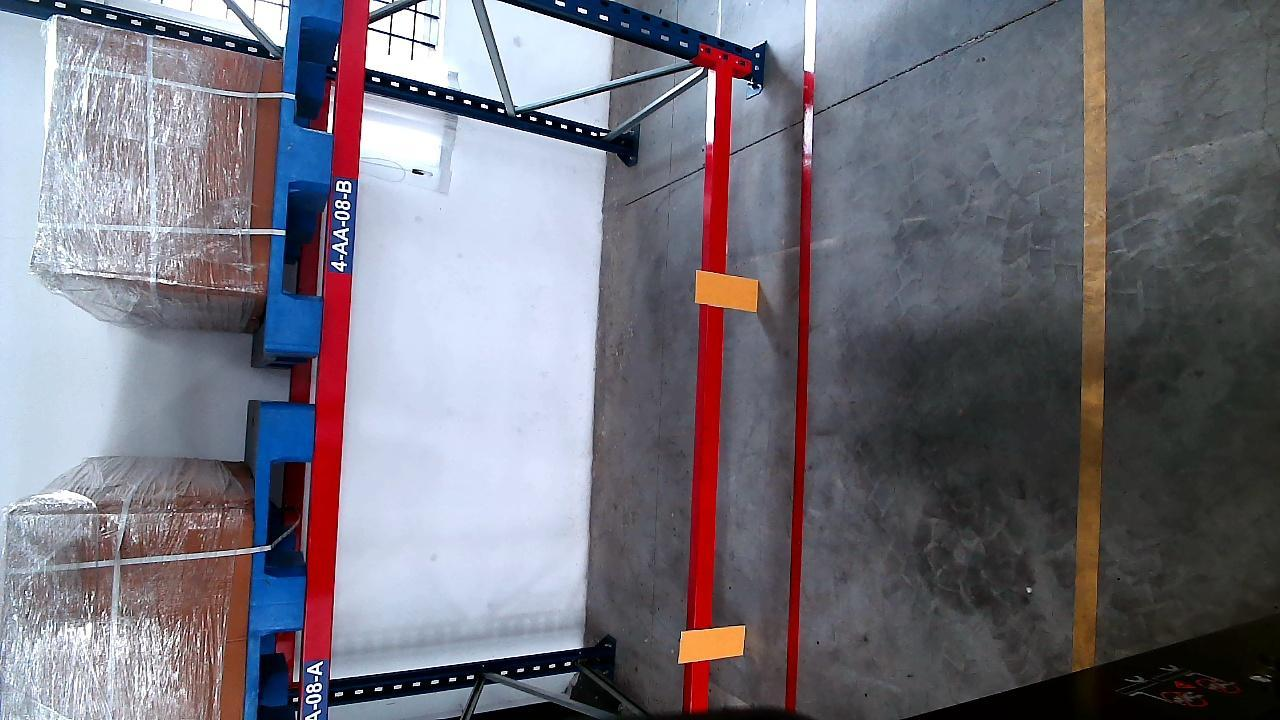red_line: (786, 0, 817, 707)
yellow_line: (1077, 0, 1105, 672)
